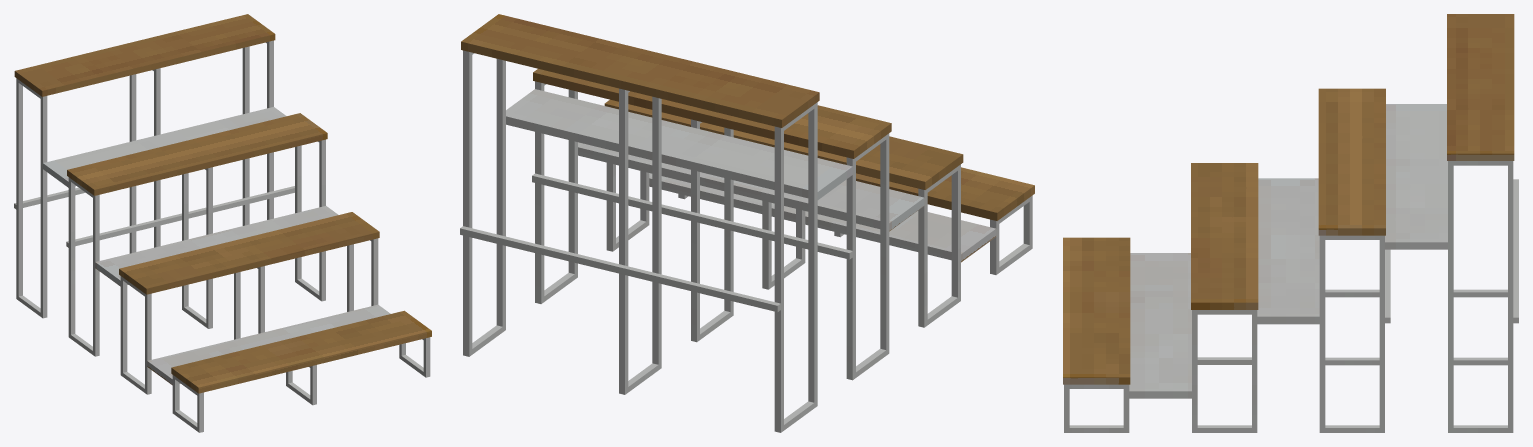
The model's file is objects_un_base_grandstand01.gltf.
3 renders of one model, left to right at view 1: azimuth 30°, elevation 25°; view 2: azimuth 150°, elevation 25°; view 3: azimuth 270°, elevation 25°, orthographic. The views are drawn at different scales.
Visible parts, largest first — view 1: objects_un_base_grandstand01_model_mesh_shape:objects_un_bas; view 2: objects_un_base_grandstand01_model_mesh_shape:objects_un_bas; view 3: objects_un_base_grandstand01_model_mesh_shape:objects_un_bas.
Boxes of the visible parts, x1,y1,x2,y2 form: objects_un_base_grandstand01_model_mesh_shape:objects_un_bas: (14, 14, 431, 432); objects_un_base_grandstand01_model_mesh_shape:objects_un_bas: (460, 14, 1034, 432); objects_un_base_grandstand01_model_mesh_shape:objects_un_bas: (1063, 14, 1518, 432).
Size of what is drawn, in the model's own units: 2.02 by 1.89 by 2.79.
Materials: 1 (1 with a texture image).
